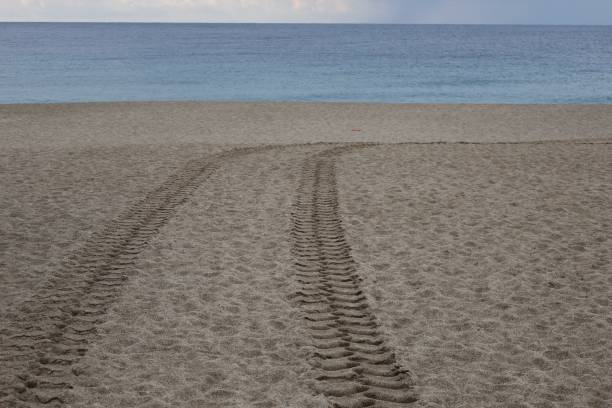vehicle_track: (0, 147, 259, 406), (292, 146, 416, 407)
